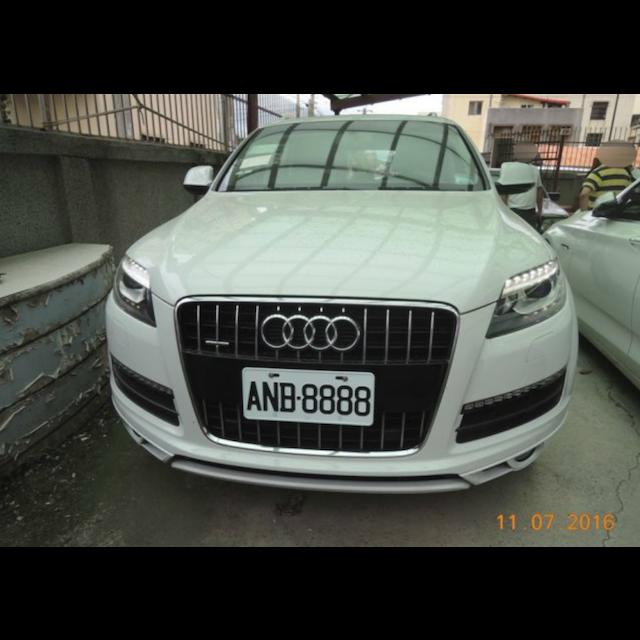plate: (242, 367, 374, 425)
